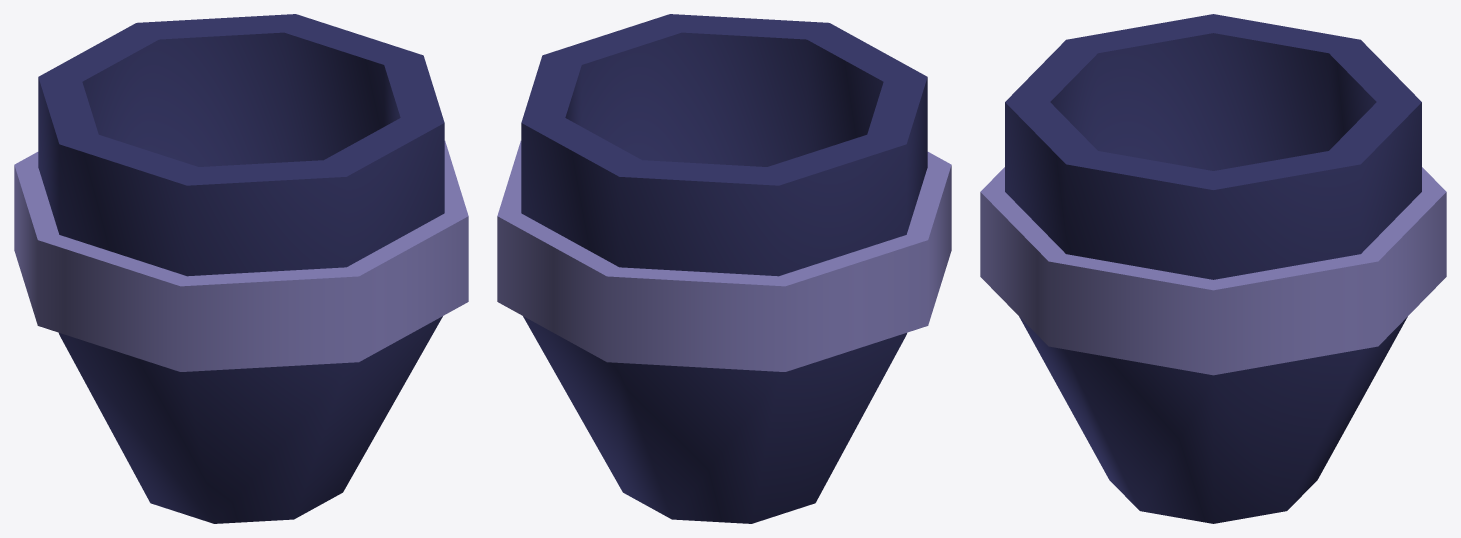
File: Hopper_Round.glb
3 views of the same model, side by side, from view 1: azimuth 30°, elevation 25°; view 2: azimuth 150°, elevation 25°; view 3: azimuth 270°, elevation 25° (orthographic).
Parts seen in each view (by area): view 1: hopper-round, hopper-round.001; view 2: hopper-round, hopper-round.001; view 3: hopper-round, hopper-round.001.
Boxes of the visible parts, x1=… form: hopper-round: x1=38, y1=14, x2=444, y2=523; hopper-round.001: x1=14, y1=141, x2=468, y2=371; hopper-round: x1=521, y1=14, x2=927, y2=523; hopper-round.001: x1=497, y1=141, x2=951, y2=371; hopper-round: x1=1005, y1=14, x2=1421, y2=523; hopper-round.001: x1=980, y1=167, x2=1446, y2=375.
Size of the model in its own units: 1.12 by 1 by 1.12.
